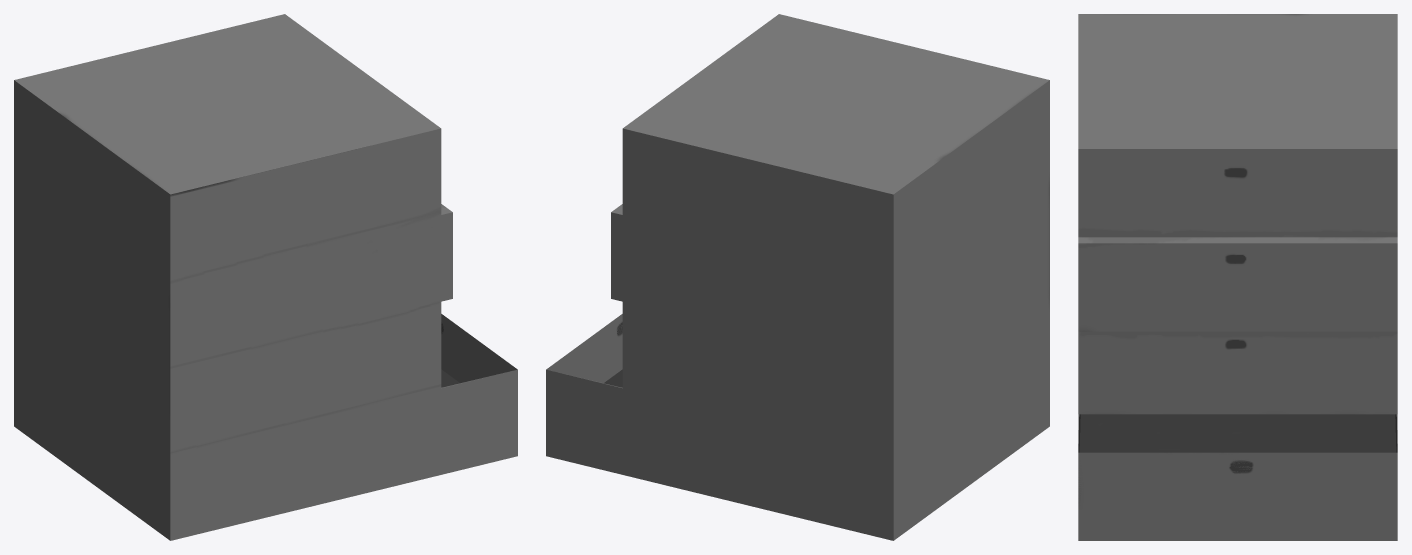
File: 2Shelves.fbx
3 renders of one model, left to right at view 1: azimuth 30°, elevation 25°; view 2: azimuth 150°, elevation 25°; view 3: azimuth 270°, elevation 25°, orthographic. The views are drawn at different scales.
Visible parts, largest first — view 1: 2Shelves; view 2: 2Shelves; view 3: 2Shelves.
Part boxes in pixels (x1,y1,x2,y2): 2Shelves: (14, 14, 517, 540); 2Shelves: (546, 14, 1049, 540); 2Shelves: (1078, 14, 1397, 540).
Size of the model in its own units: 309 by 295 by 241.
